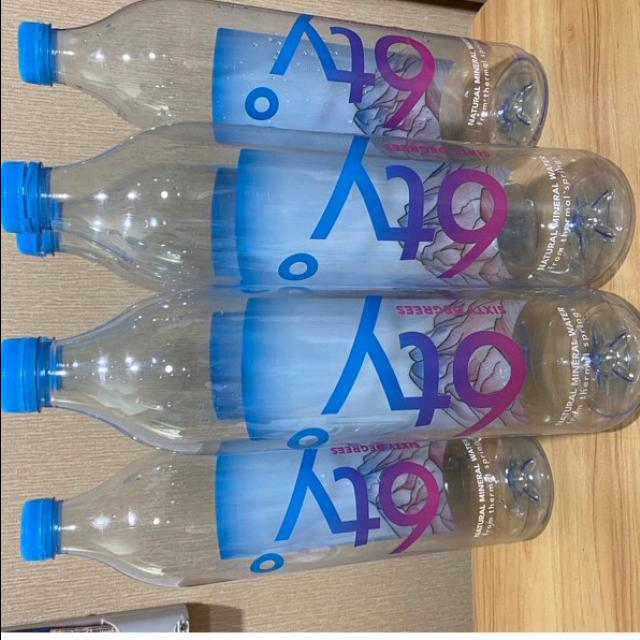plastik: (0, 290, 640, 453), (0, 124, 632, 289), (20, 437, 551, 587), (17, 0, 546, 145)
